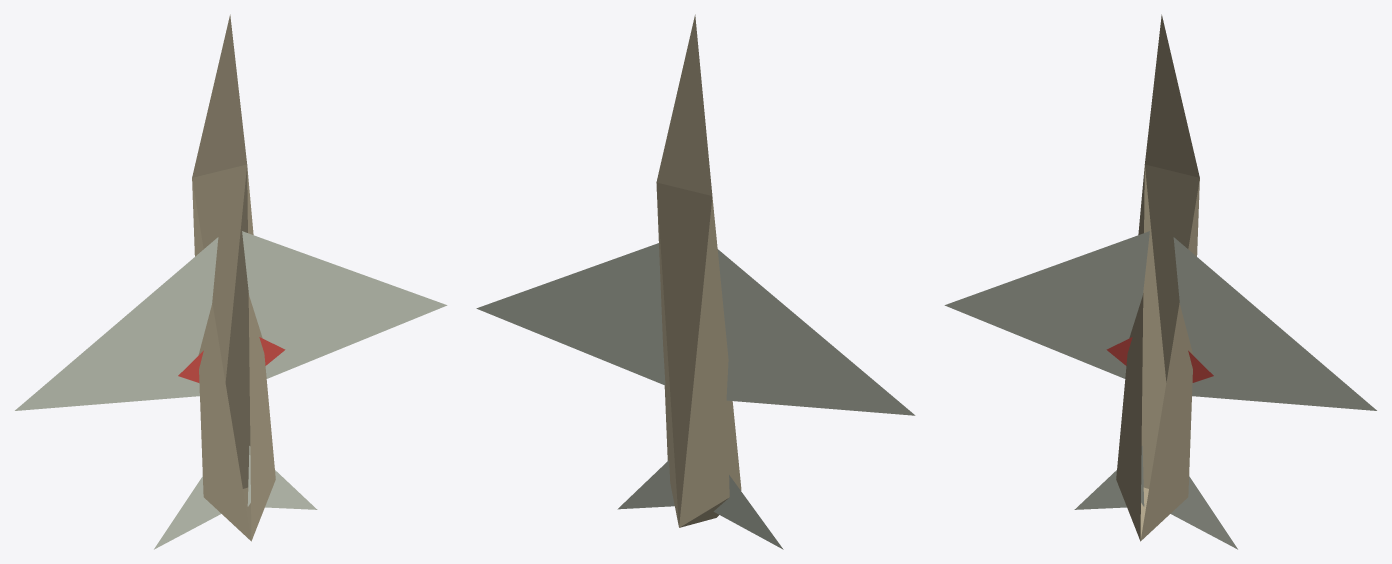
Rendered from shape_011_SVN_Custom_Aircraft_011.glb.
The picture shows the model from 3 angles, left to right: view 1: azimuth 30°, elevation 25°; view 2: azimuth 150°, elevation 25°; view 3: azimuth 330°, elevation 25°; orthographic projection.
Visible parts, largest first — view 1: shape_011_SVN_Custom_Aircraft_011; view 2: shape_011_SVN_Custom_Aircraft_011; view 3: shape_011_SVN_Custom_Aircraft_011.
Part boxes in pixels (x1,y1,x2,y2): shape_011_SVN_Custom_Aircraft_011: (15,14,447,549); shape_011_SVN_Custom_Aircraft_011: (476,14,915,549); shape_011_SVN_Custom_Aircraft_011: (944,14,1376,549).
Size of the model in its own units: 50.89 by 57.45 by 7.56.
